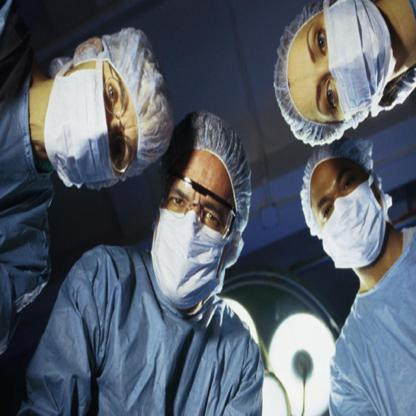face: (283, 9, 389, 126), (47, 67, 152, 179), (161, 155, 228, 301), (313, 154, 381, 263)
